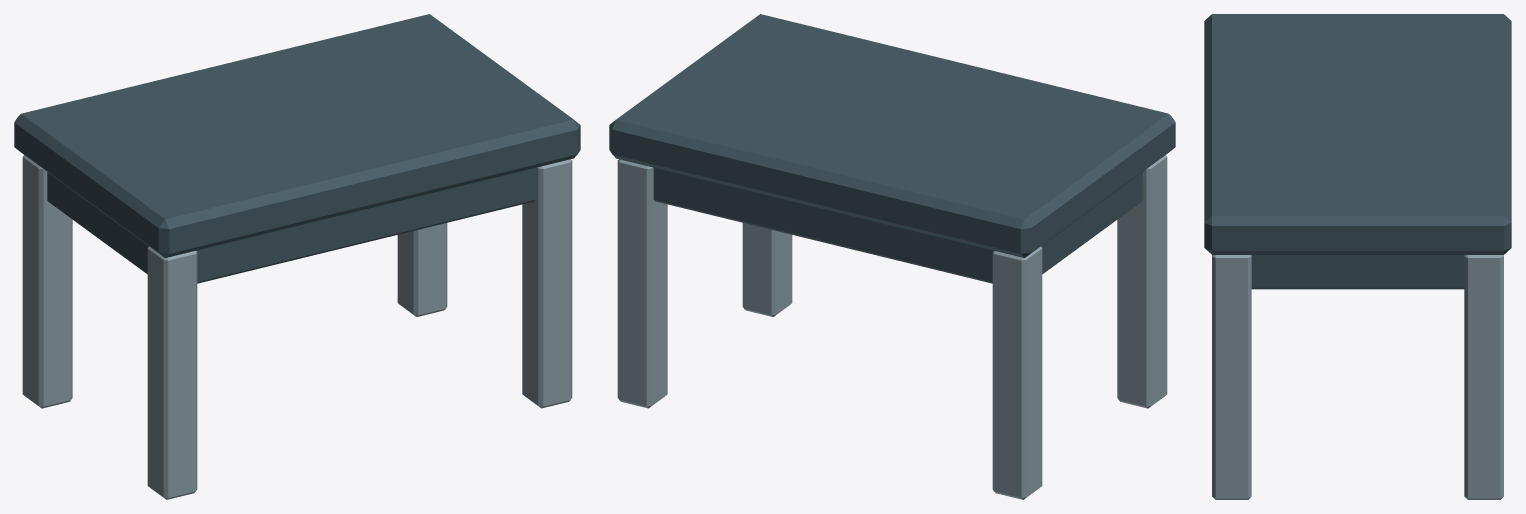
File: table_perimetre.glb
3 renders of one model, left to right at view 1: azimuth 30°, elevation 25°; view 2: azimuth 150°, elevation 25°; view 3: azimuth 270°, elevation 25°, orthographic.
Parts seen in each view (by area): view 1: table_perimetre; view 2: table_perimetre; view 3: table_perimetre.
Boxes of the visible parts, box(x1,y1,x2,y2) form: table_perimetre: box(14, 14, 580, 499); table_perimetre: box(609, 14, 1175, 499); table_perimetre: box(1204, 14, 1511, 499).
Bounding box in the file's own units: 1.25 × 0.8 × 0.78.
1 material, 1 textured.
